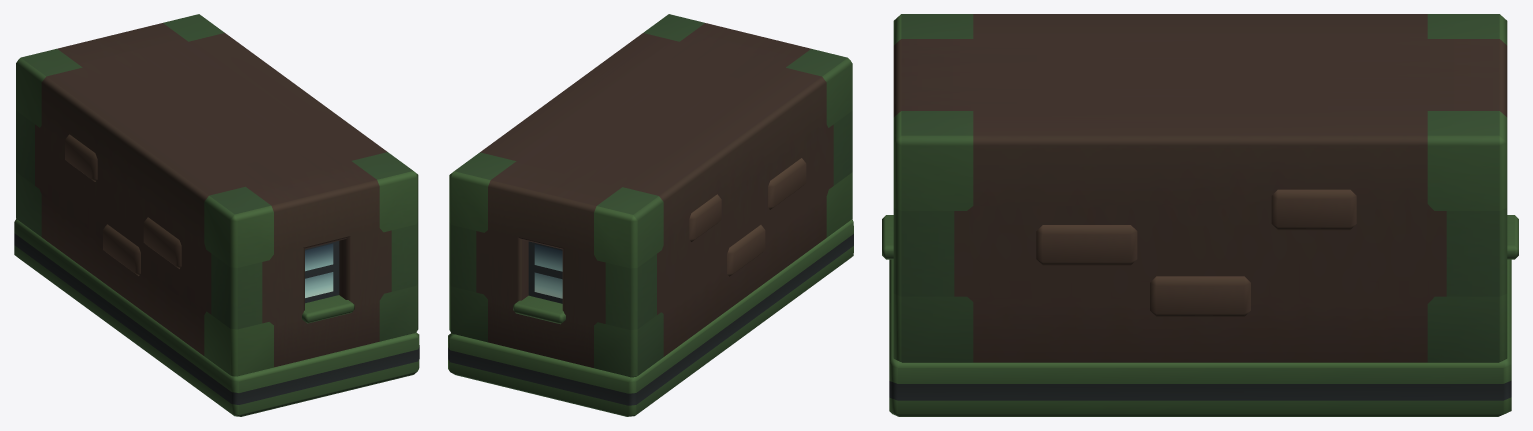
The model's file is appartment_type1_x2_element_brown.fbx.
The picture shows the model from 3 angles, left to right: view 1: azimuth 30°, elevation 25°; view 2: azimuth 150°, elevation 25°; view 3: azimuth 270°, elevation 25°; orthographic projection. The views are drawn at different scales.
Visible parts, largest first — view 1: appartment_type1_x2_element_brown; view 2: appartment_type1_x2_element_brown; view 3: appartment_type1_x2_element_brown.
Part boxes in pixels (box(x1,y1,x2,y2)): appartment_type1_x2_element_brown: box(14, 14, 419, 416); appartment_type1_x2_element_brown: box(448, 14, 853, 416); appartment_type1_x2_element_brown: box(882, 14, 1518, 416).
Bounding box in the file's own units: 419 × 409 × 841.
